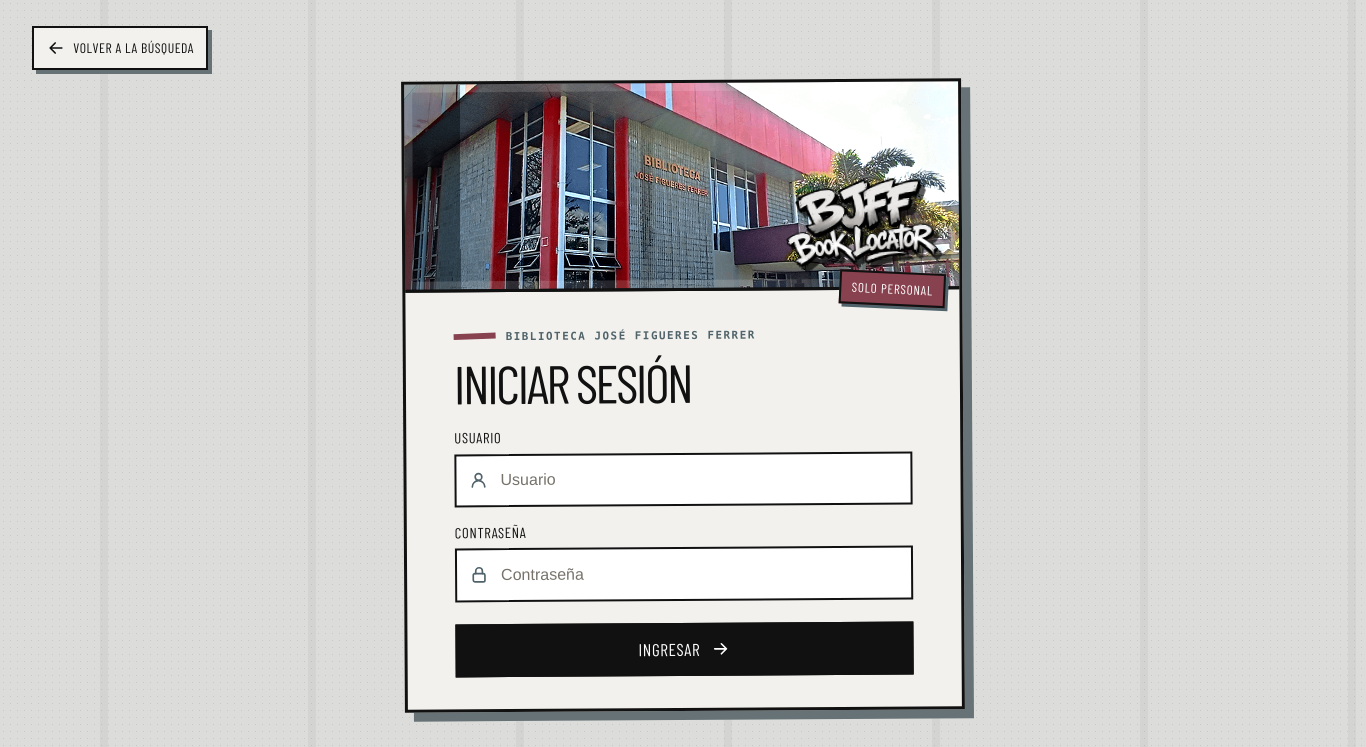
Test case: flujo administrativo › permite exportar rutas CSV por nivel o el árbol completo como TXT
Type "admin" into the field labelled "Usuario". click: (684, 479)
box: x1=454 y1=451 x2=913 y2=508
Type "admin" into the password field labelled "Contraseña". click: (684, 574)
box: x1=455 y1=546 x2=913 y2=602
Click the button "Ingresar". click: (685, 649)
box: x1=455 y1=621 x2=914 y2=678
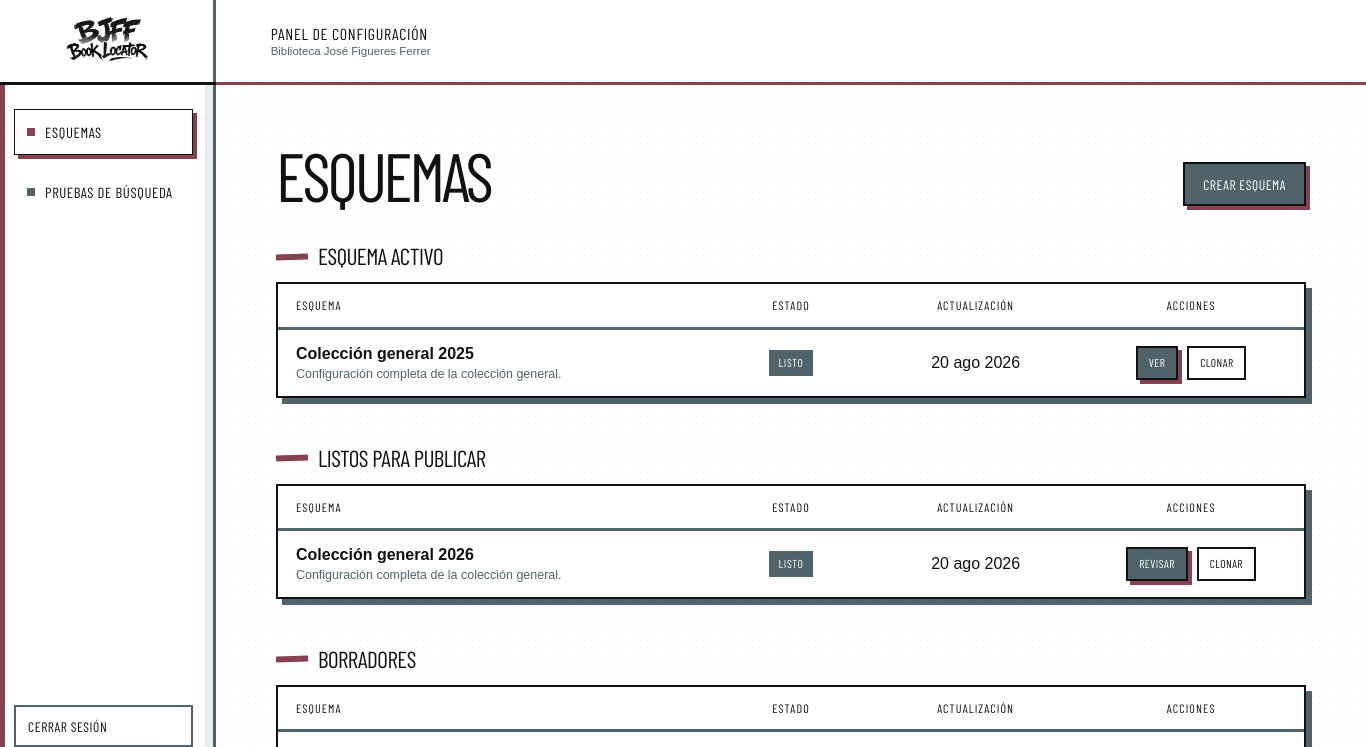
Now the heading "Esquemas" is shown, box x1=276 y1=145 x2=491 y2=206
Click the link "Revisar". click: (1157, 564)
box: x1=1126 y1=547 x2=1188 y2=581
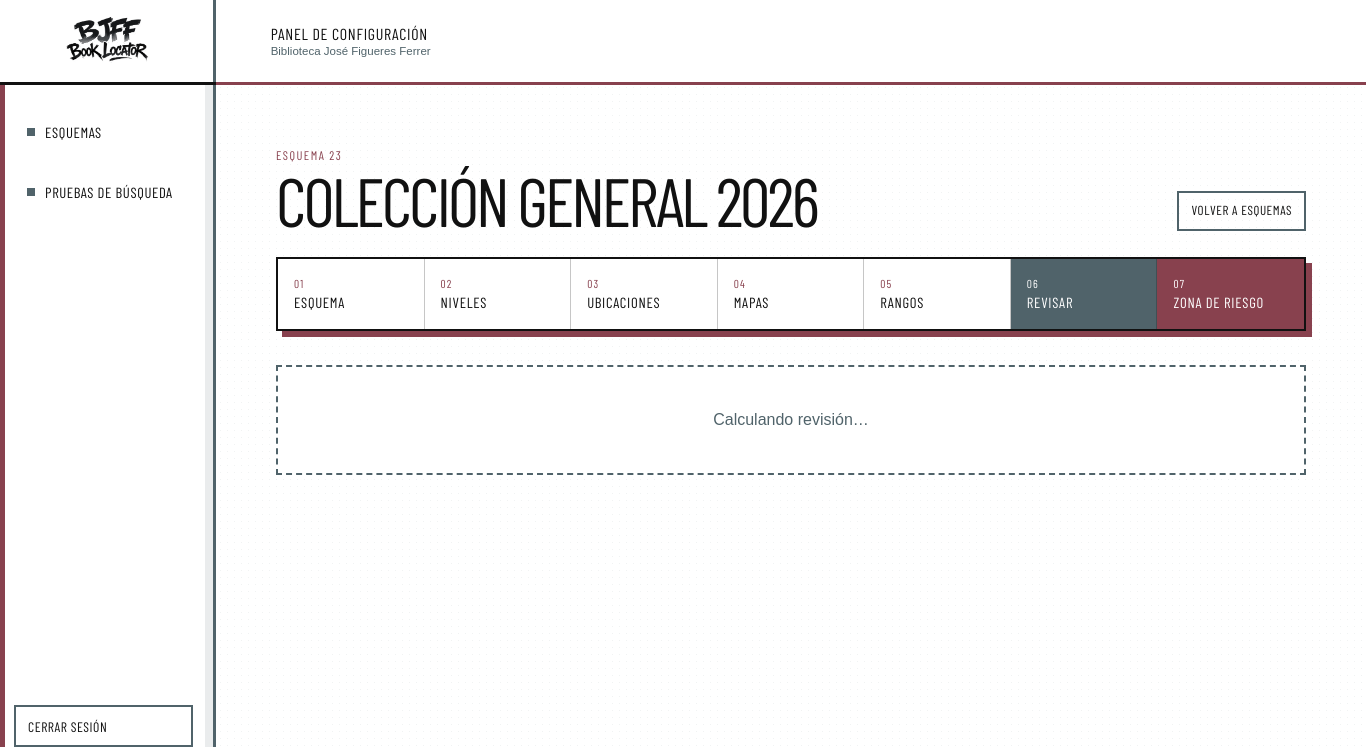
Click the link "03 Ubicaciones". click: (644, 294)
box: x1=571 y1=259 x2=718 y2=329
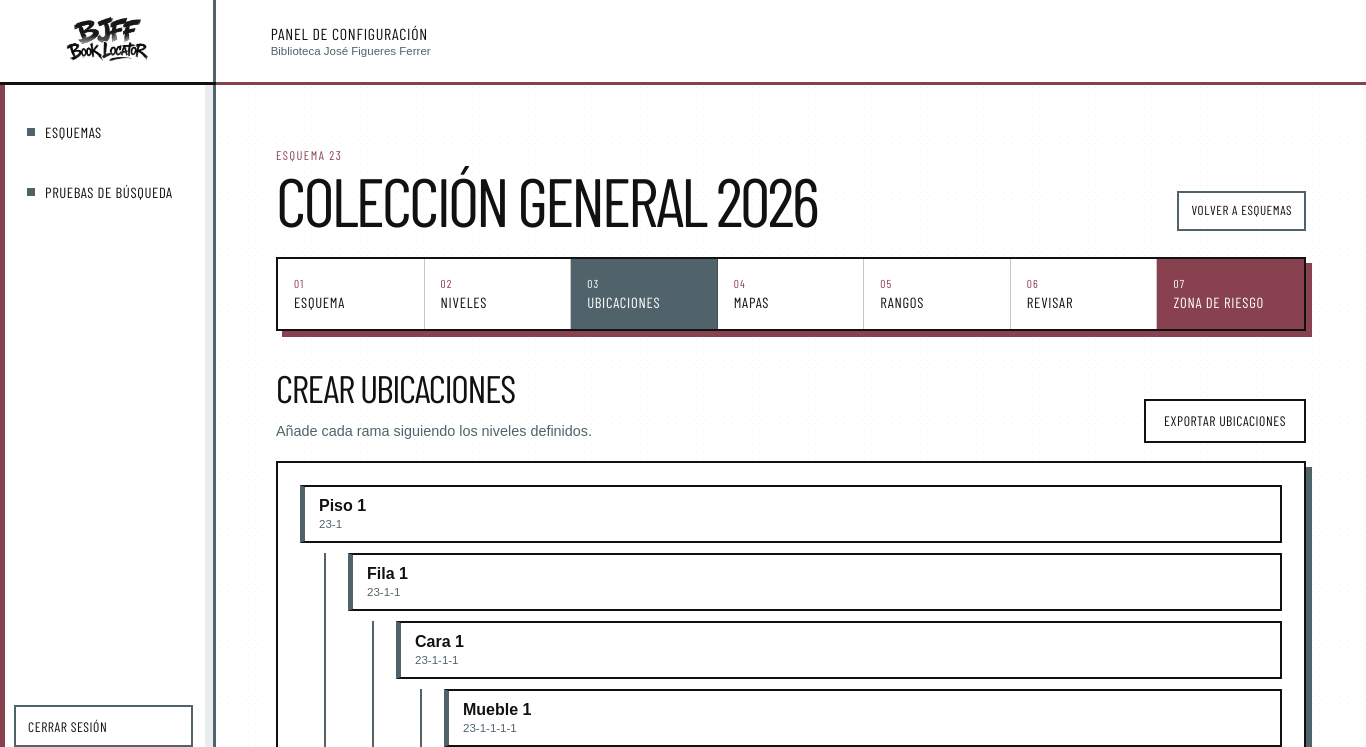
Click the button "Exportar ubicaciones". click: (1225, 421)
box: x1=1144 y1=399 x2=1306 y2=443
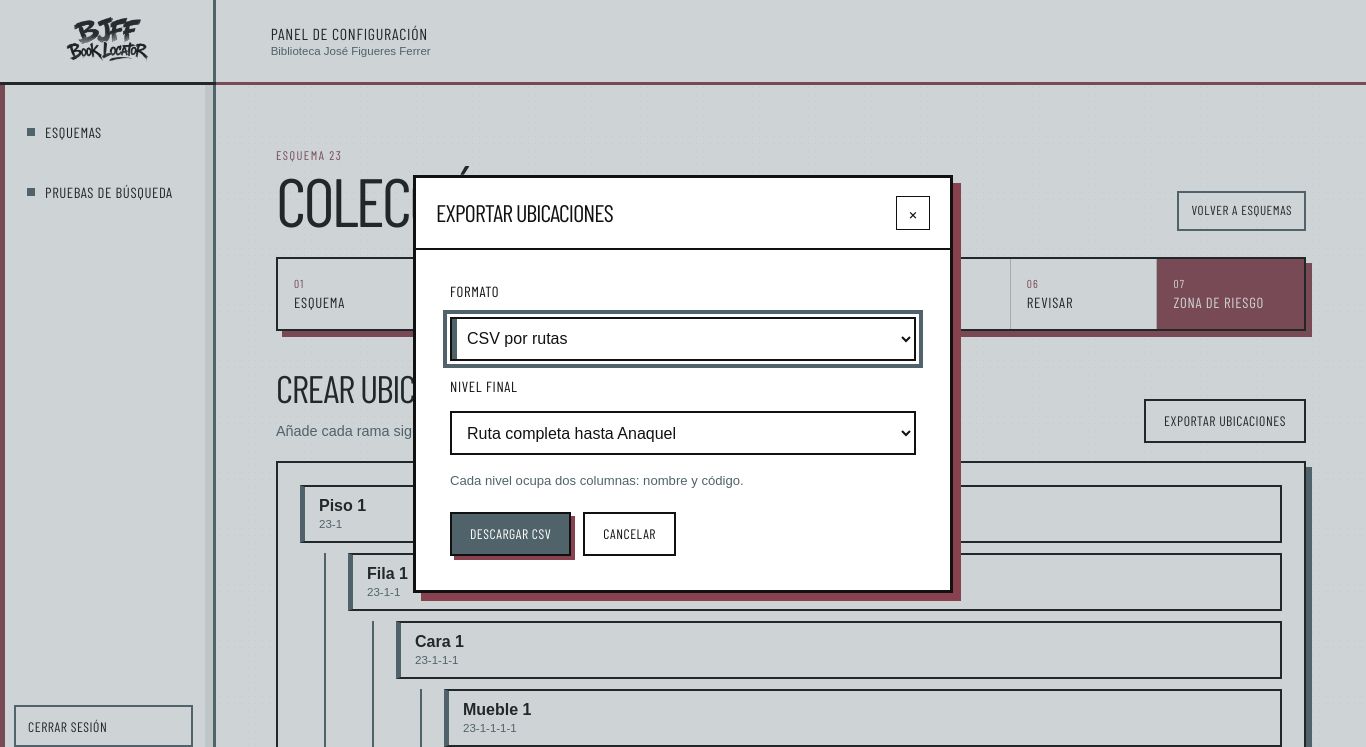
Select "Hasta Mueble" in the dropdown labelled "Nivel final". click: (683, 433)
box: x1=450 y1=411 x2=916 y2=455
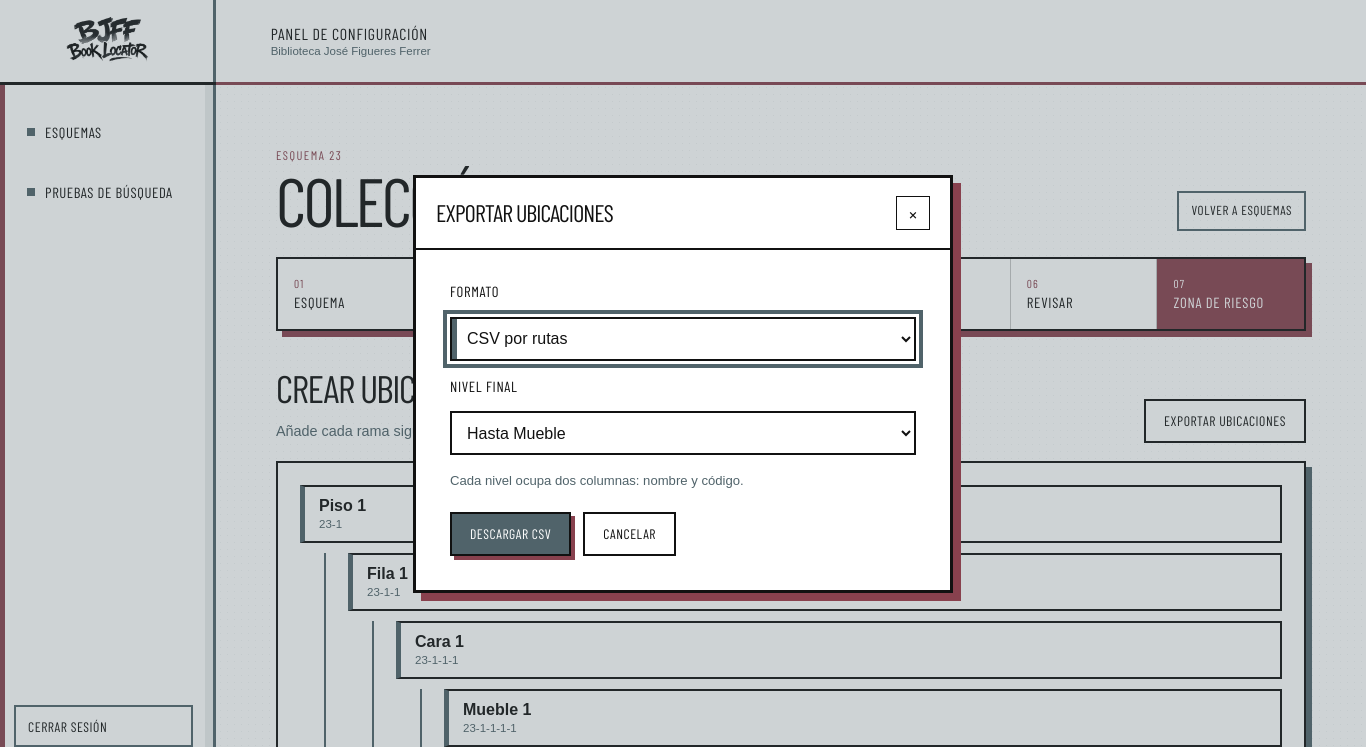
Select "TXT jerárquico" in the dropdown labelled "Formato". click: (683, 338)
box: x1=450 y1=316 x2=916 y2=360
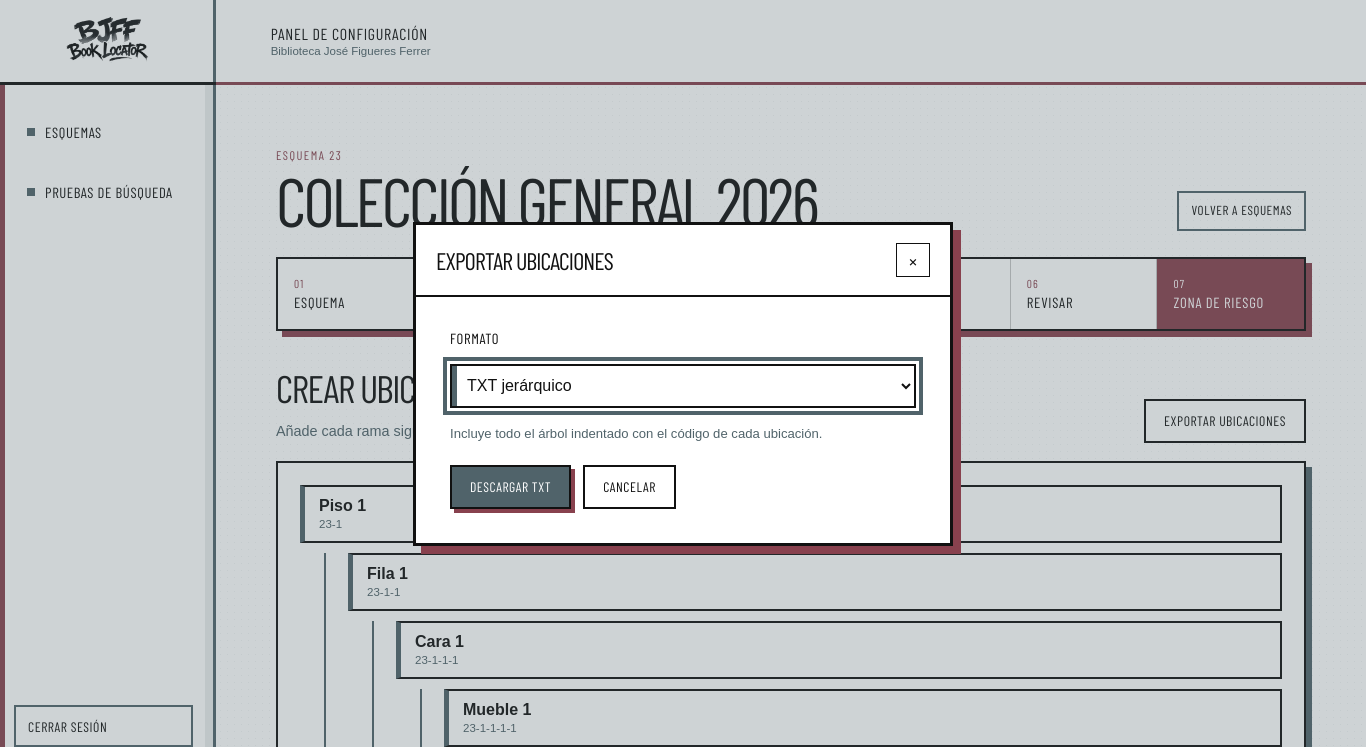
Now the label labelled "Nivel final" is gone
Now the text "Incluye todo el árbol indentado con el código de cada ubicación." is shown, box x1=450 y1=426 x2=822 y2=441
